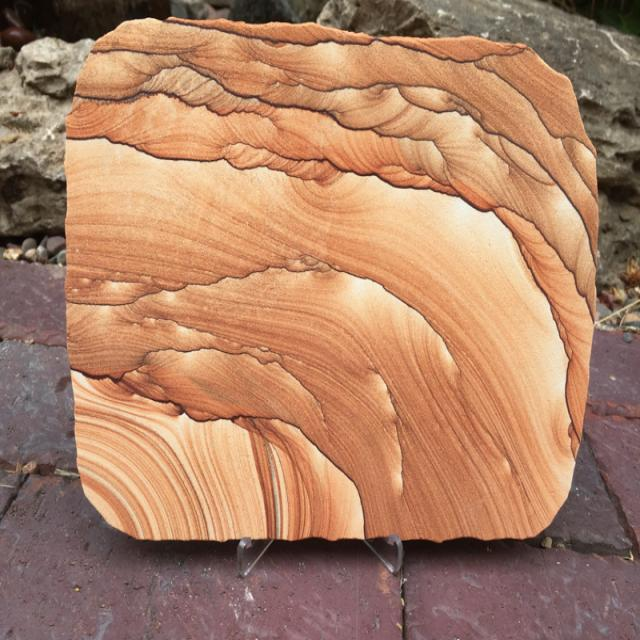Sedimentary: (64, 16, 601, 557)
